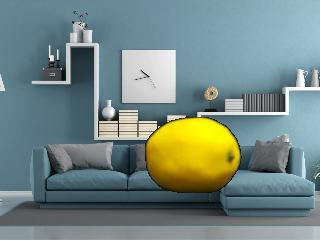lemon: (145, 119, 240, 194)
